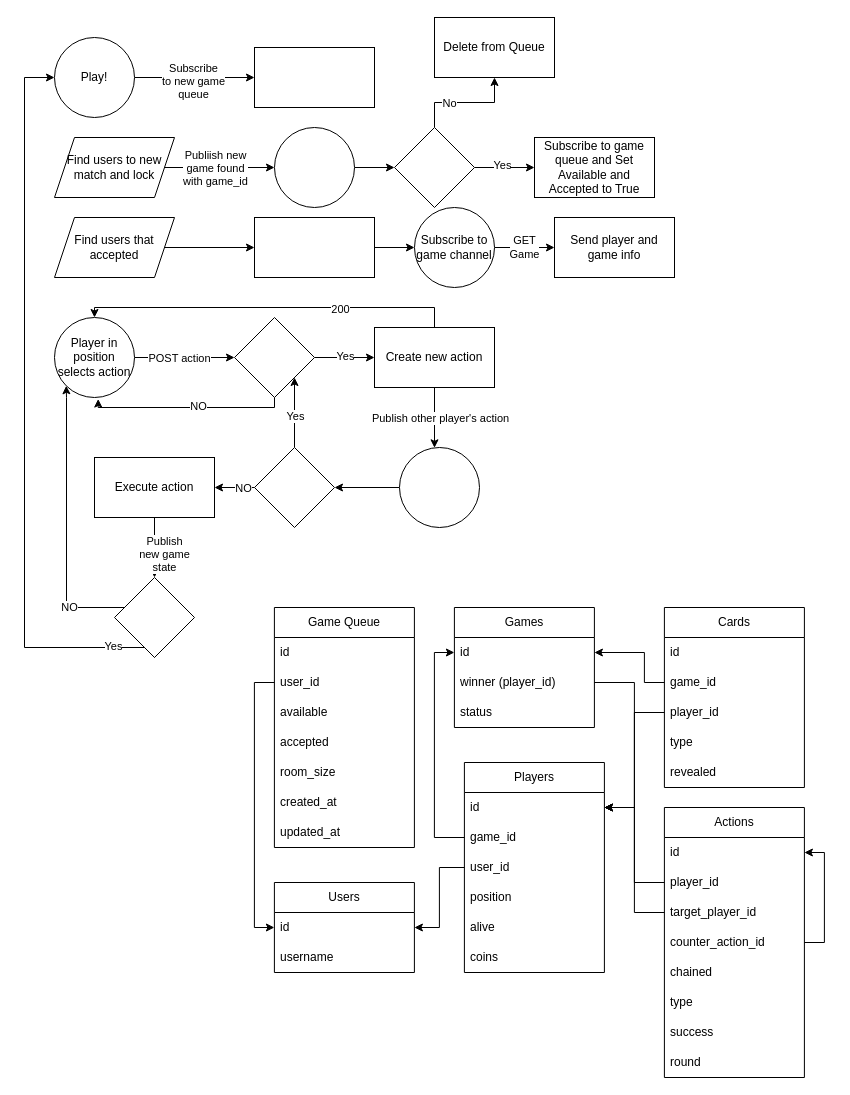
Image size: 850x1095. Some labels were removed from this diagram. The centre of each missing label's shape, as x and y in pixels:
Accept/reject: the point at 314,167
Accepted?: the point at 434,167
Any counter?: the point at 294,487
Game Over?: the point at 154,617
Other players select counter action: the point at 439,487
Start game and publish private game channel: the point at 314,247
Subscribe user and add user to new game queue: the point at 314,77
Valid?: the point at 274,357
